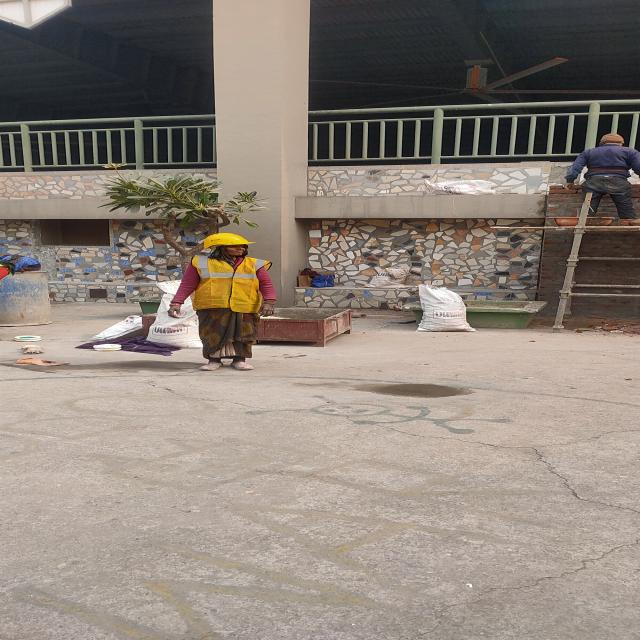safe: (177, 232, 276, 372)
unsafe: (569, 129, 635, 205)
